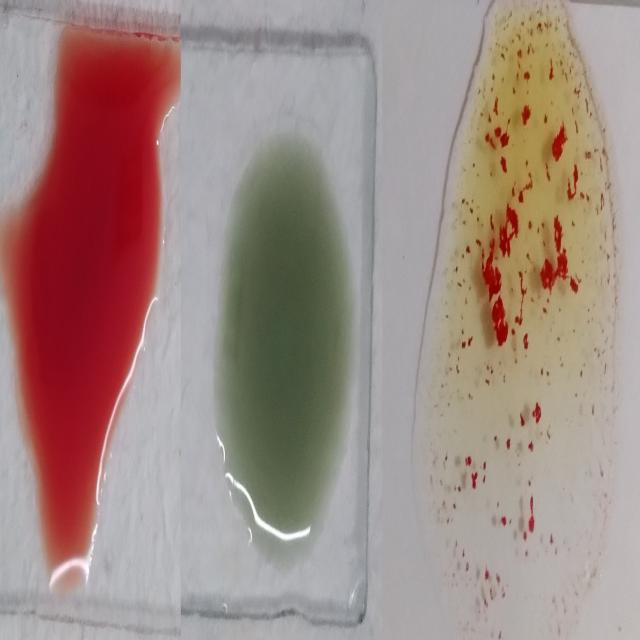B: (429, 9, 601, 628)
